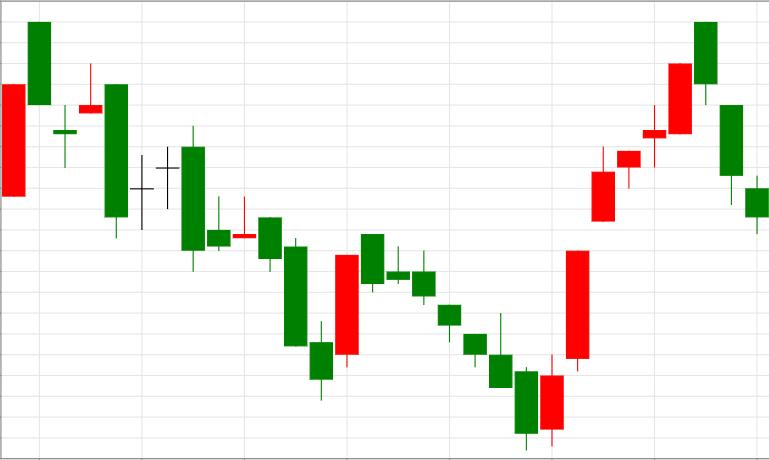three_black_crows_fall: (539, 22, 769, 447)
three_white_soldiers_rise: (361, 146, 614, 449)
